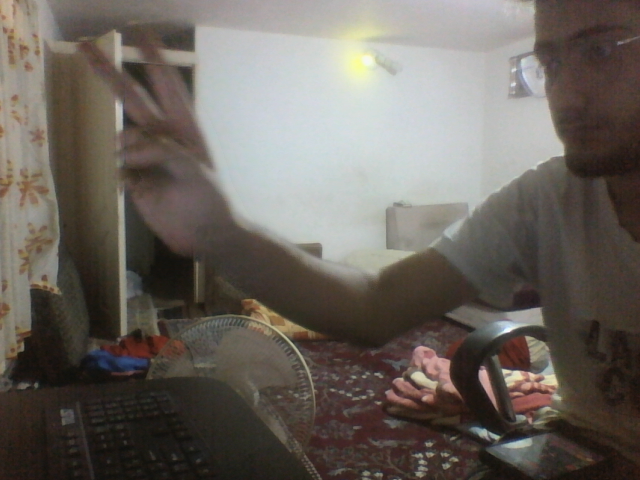Azadi: (78, 28, 235, 261)
